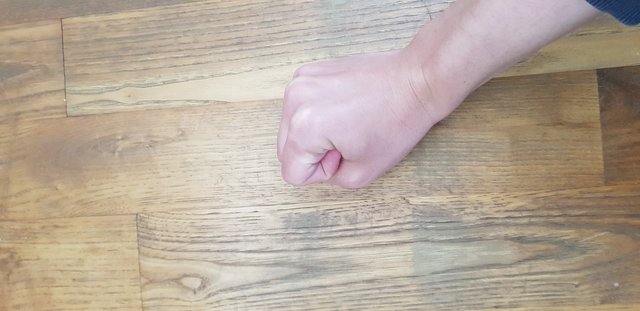Rock: (249, 38, 441, 208)
